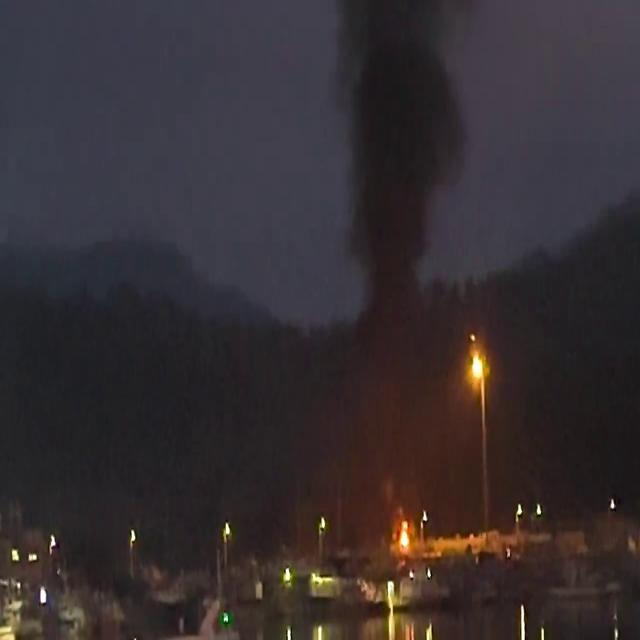Smoke: (319, 1, 471, 452)
